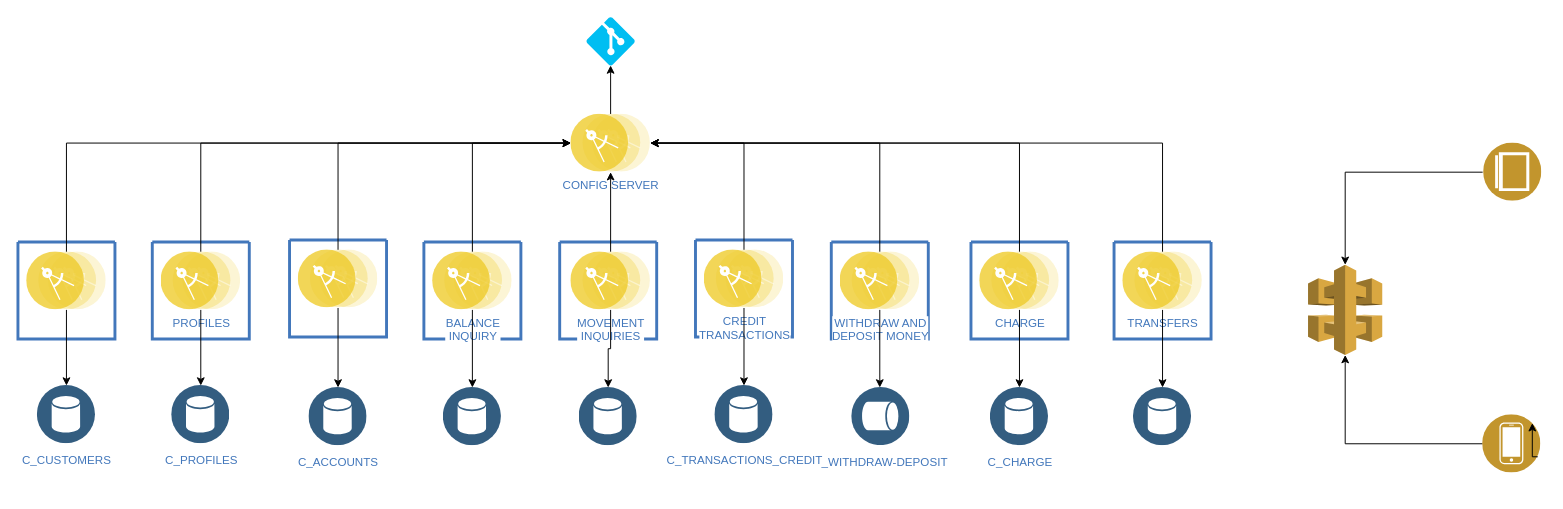
The diagram is 1563 pixels wide and 509 high, and some of its shapes have lost their labels. The centre of each missing label's shape, as x and y in pixels:
"ACCOUNTS" belongs at point (337, 278).
"C_BALANCE-INQUIRY" belongs at point (472, 416).
"C_MOVEMENT-INQUIRIES" belongs at point (608, 416).
"C_TRANSFERS" belongs at point (1162, 416).
"CUSTOMERS" belongs at point (66, 280).
"DEVICES" belongs at point (1511, 443).
"WEB" belongs at point (1511, 172).
